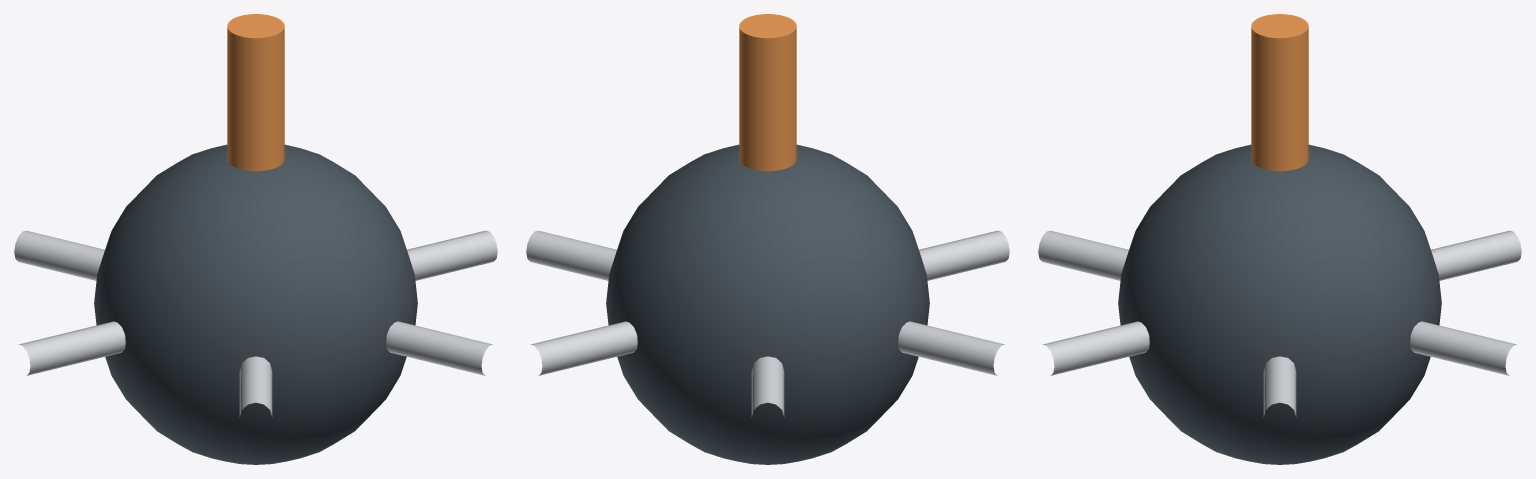
The picture shows the model from 3 angles, left to right: view 1: azimuth 30°, elevation 25°; view 2: azimuth 150°, elevation 25°; view 3: azimuth 270°, elevation 25°; orthographic projection.
Visible parts, largest first — view 1: space-mine; view 2: space-mine; view 3: space-mine.
Boxes of the visible parts, bbox=[...] form: space-mine: bbox=[14, 14, 497, 464]; space-mine: bbox=[526, 14, 1009, 464]; space-mine: bbox=[1038, 14, 1521, 464].
Size of the model in its own units: 1.5 by 1.3 by 1.34.
